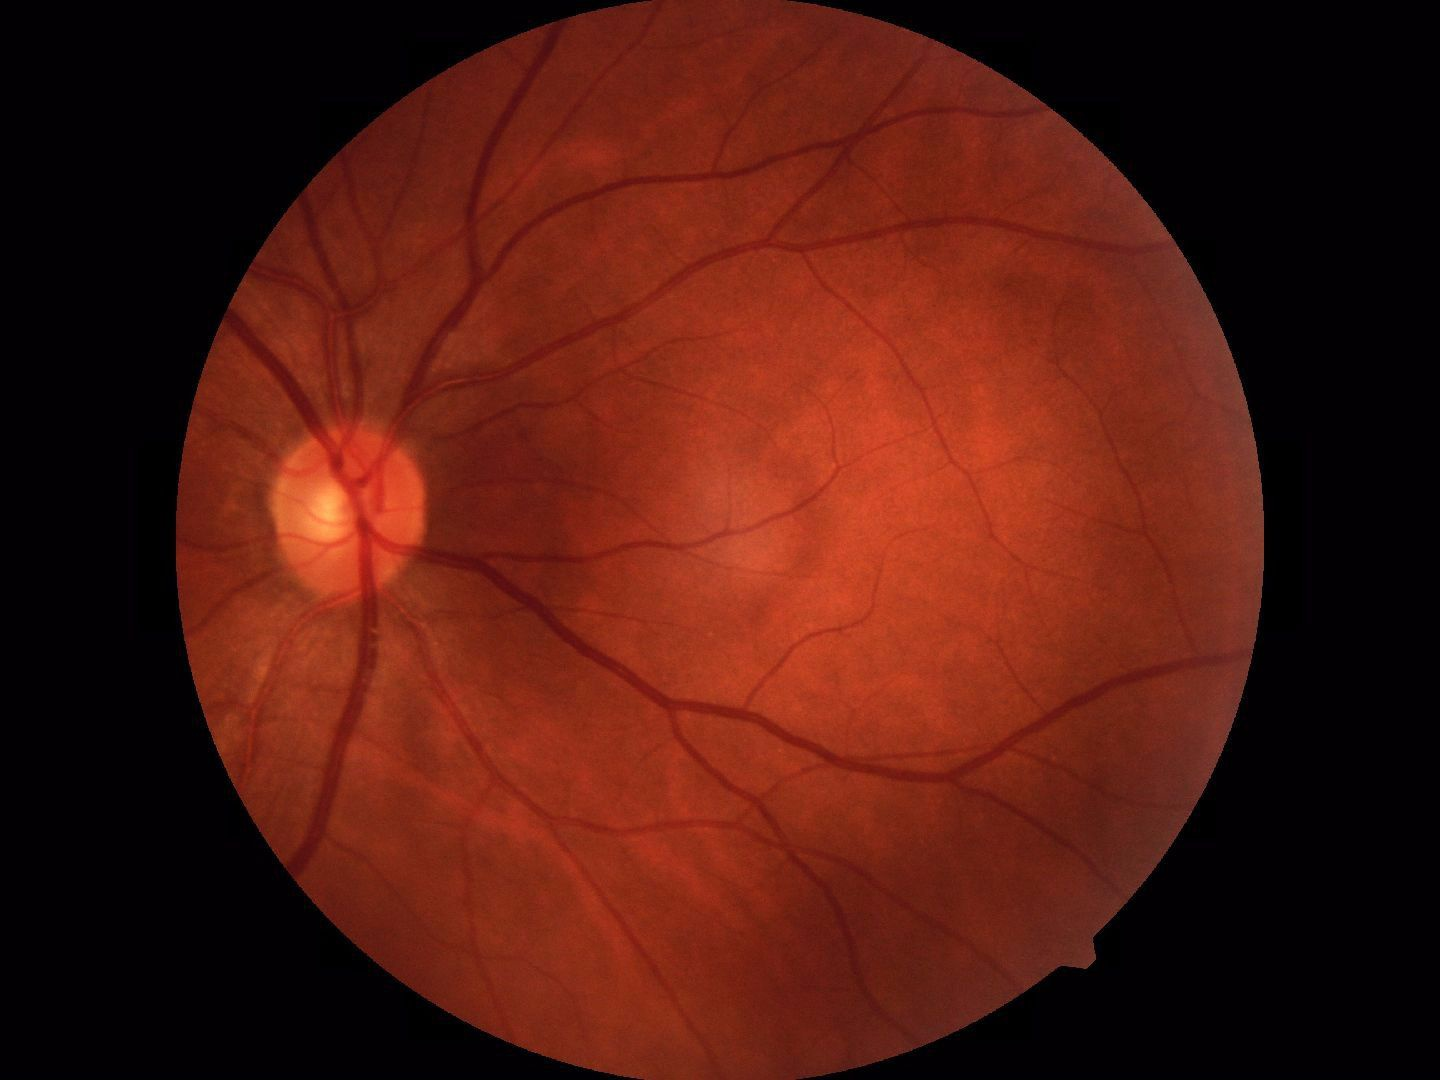Optic-Disc: (280, 412, 435, 615)
Venules: (401, 143, 492, 380), (313, 653, 357, 864)
